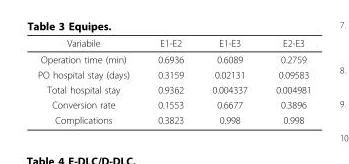table: (36, 37, 310, 125)
table column: (36, 37, 143, 125), (197, 37, 261, 125), (143, 37, 197, 125), (261, 37, 310, 125)
table column header: (36, 37, 310, 50)
table row: (36, 50, 310, 66), (36, 96, 310, 112), (36, 66, 310, 81), (36, 81, 310, 96), (36, 37, 310, 50), (36, 112, 310, 125)
